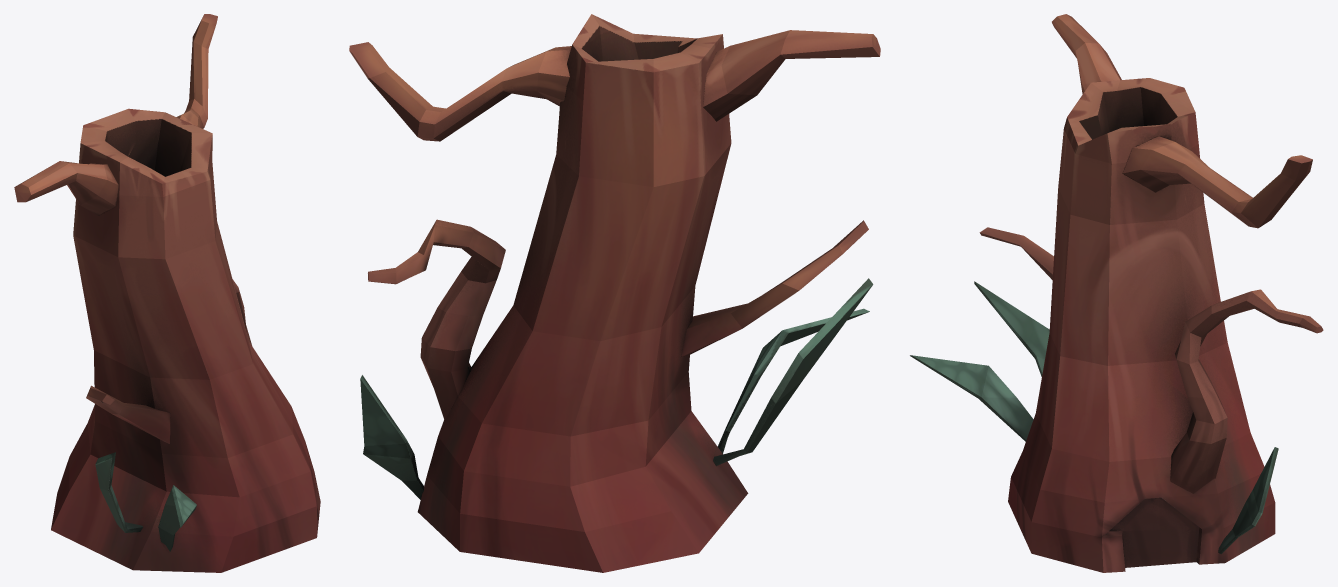
The model's file is Tree_4.fbx.
3 renders of one model, left to right at view 1: azimuth 30°, elevation 25°; view 2: azimuth 150°, elevation 25°; view 3: azimuth 270°, elevation 25°, orthographic. The views are drawn at different scales.
Parts seen in each view (by area): view 1: Tree_4; view 2: Tree_4; view 3: Tree_4.
Boxes of the visible parts, left/top/right/bottom form: Tree_4: left=14, top=14, right=320, bottom=572; Tree_4: left=349, top=14, right=880, bottom=572; Tree_4: left=910, top=14, right=1323, bottom=572.
Bounding box in the file's own units: 8.45 × 10.05 × 9.17.
